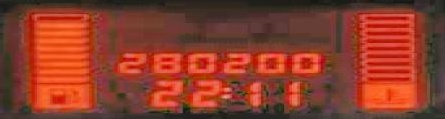0: (289, 50, 320, 73), (183, 50, 214, 73), (255, 50, 284, 73)
1: (281, 79, 302, 106), (245, 80, 266, 105)
2: (149, 79, 183, 105), (190, 78, 219, 107), (117, 50, 143, 73), (222, 50, 248, 73)
8: (149, 52, 180, 73)
X: (221, 85, 232, 100)
